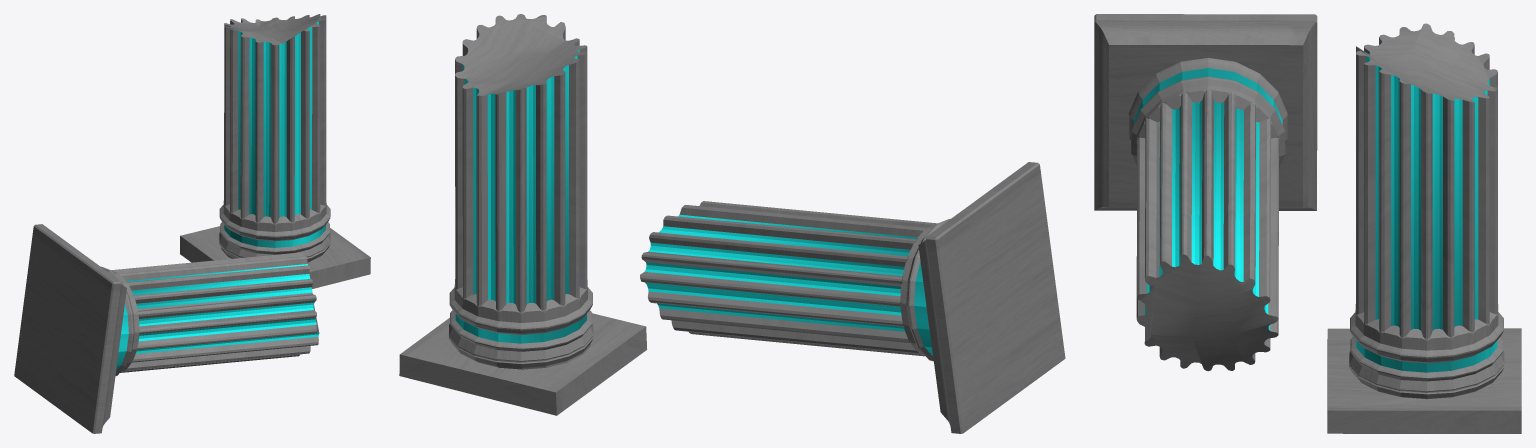
File: broken column.FBX
3 renders of one model, left to right at view 1: azimuth 30°, elevation 25°; view 2: azimuth 150°, elevation 25°; view 3: azimuth 270°, elevation 25°, orthographic. The views are drawn at different scales.
Parts seen in each view (by area): view 1: Plane003, Plane002; view 2: Plane003, Plane002; view 3: Plane003, Plane002.
Boxes of the visible parts, x1,y1,x2,y2 form: Plane003: [14, 224, 319, 433]; Plane002: [180, 14, 370, 288]; Plane003: [640, 162, 1065, 433]; Plane002: [399, 14, 647, 415]; Plane003: [1094, 14, 1317, 371]; Plane002: [1327, 23, 1521, 433].
Size of the model in its own units: 56.46 by 39.52 by 41.58.
Materials: 2 (2 with a texture image).
